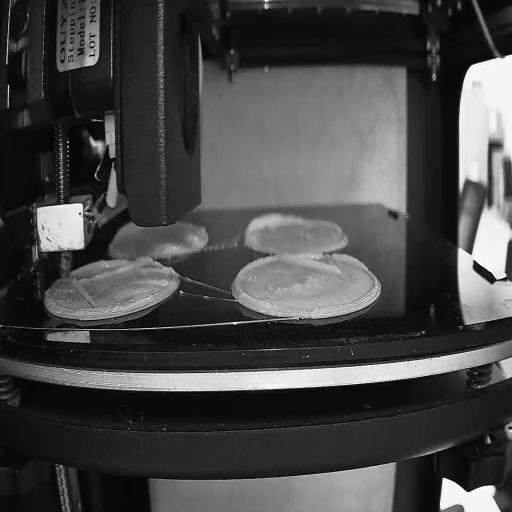over_extrusion: (244, 207, 302, 246), (236, 255, 276, 309), (279, 252, 369, 276), (97, 252, 154, 282), (72, 276, 93, 309)
